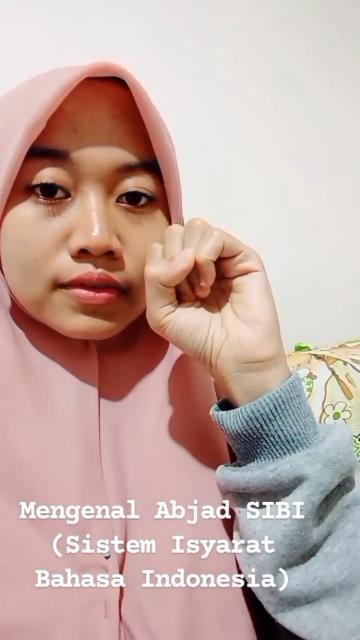S: (140, 211, 298, 369)
